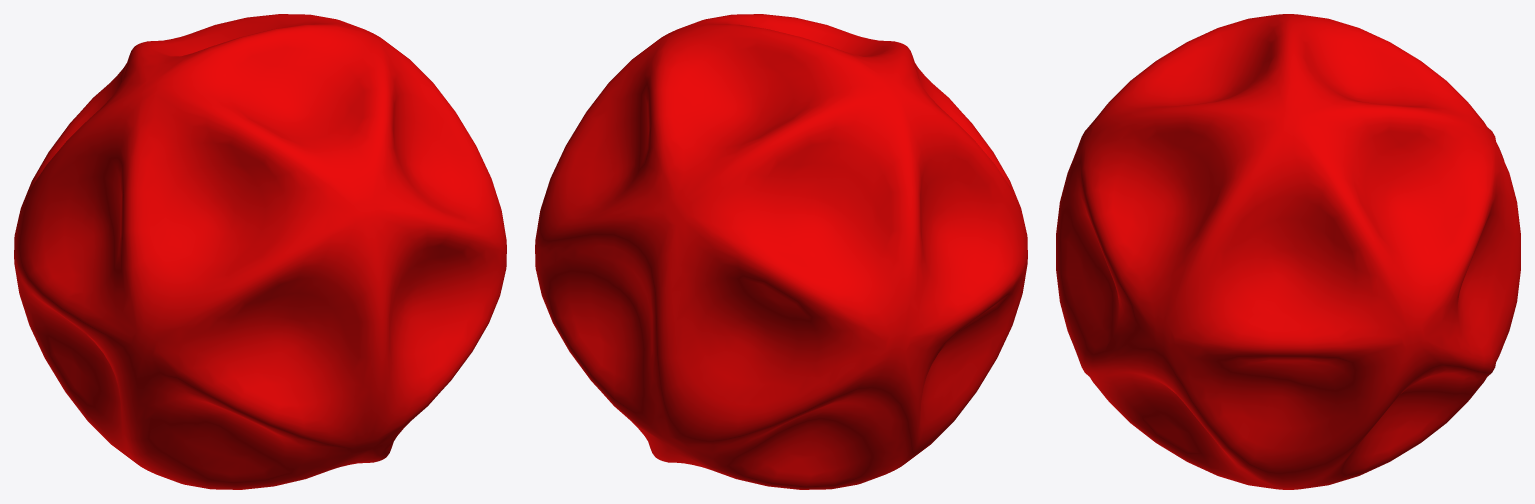
File: ball1.fbx
The picture shows the model from 3 angles, left to right: view 1: azimuth 30°, elevation 25°; view 2: azimuth 150°, elevation 25°; view 3: azimuth 270°, elevation 25°; orthographic projection. The views are drawn at different scales.
Visible parts, largest first — view 1: great_dodecahedron_organic_shape:Mesh_GreatDodecahedron; view 2: great_dodecahedron_organic_shape:Mesh_GreatDodecahedron; view 3: great_dodecahedron_organic_shape:Mesh_GreatDodecahedron.
Part boxes in pixels (<box>): great_dodecahedron_organic_shape:Mesh_GreatDodecahedron: <box>14,14,506,489</box>; great_dodecahedron_organic_shape:Mesh_GreatDodecahedron: <box>535,14,1027,489</box>; great_dodecahedron_organic_shape:Mesh_GreatDodecahedron: <box>1056,14,1520,489</box>.
Bounding box in the file's own units: 8.9 × 8.9 × 8.9.
